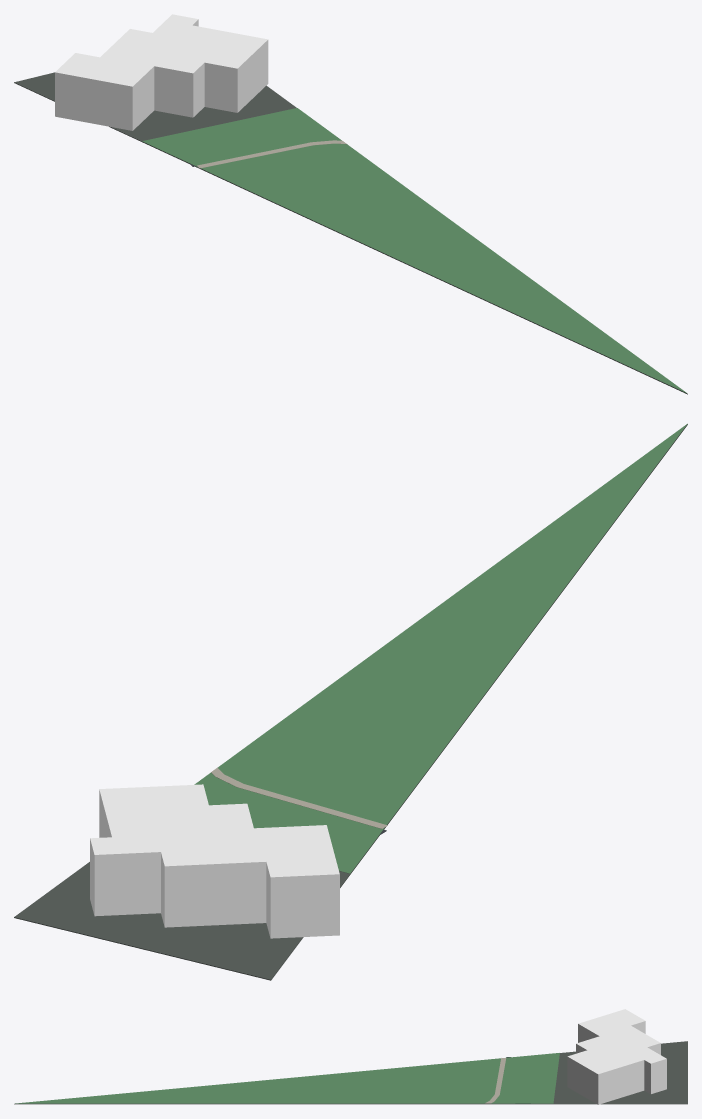
The model's file is tile_000_004.glb.
3 views of the same model, one above another, from view 1: azimuth 30°, elevation 25°; view 2: azimuth 150°, elevation 25°; view 3: azimuth 270°, elevation 25° (orthographic). The views are drawn at different scales.
Parts seen in each view (by area): view 1: tile_000_004_open_spaces, tile_000_004_buildings_neutral, tile_000_004_ground, tile_000_004_paths; view 2: tile_000_004_open_spaces, tile_000_004_buildings_neutral, tile_000_004_ground, tile_000_004_paths; view 3: tile_000_004_open_spaces, tile_000_004_buildings_neutral, tile_000_004_ground, tile_000_004_paths.
Part boxes in pixels (left/top/right/bottom): tile_000_004_open_spaces: left=142, top=108, right=687, bottom=393; tile_000_004_buildings_neutral: left=55, top=14, right=268, bottom=130; tile_000_004_ground: left=14, top=72, right=687, bottom=394; tile_000_004_paths: left=197, top=140, right=346, bottom=168; tile_000_004_open_spaces: left=194, top=423, right=687, bottom=873; tile_000_004_buildings_neutral: left=90, top=784, right=339, bottom=938; tile_000_004_ground: left=14, top=424, right=687, bottom=980; tile_000_004_paths: left=211, top=767, right=387, bottom=828; tile_000_004_open_spaces: left=15, top=1053, right=559, bottom=1103; tile_000_004_buildings_neutral: left=567, top=1009, right=666, bottom=1104; tile_000_004_ground: left=14, top=1041, right=687, bottom=1104; tile_000_004_paths: left=485, top=1058, right=506, bottom=1103.
Size of the model in its own units: 54.9 by 12.16 by 239.
